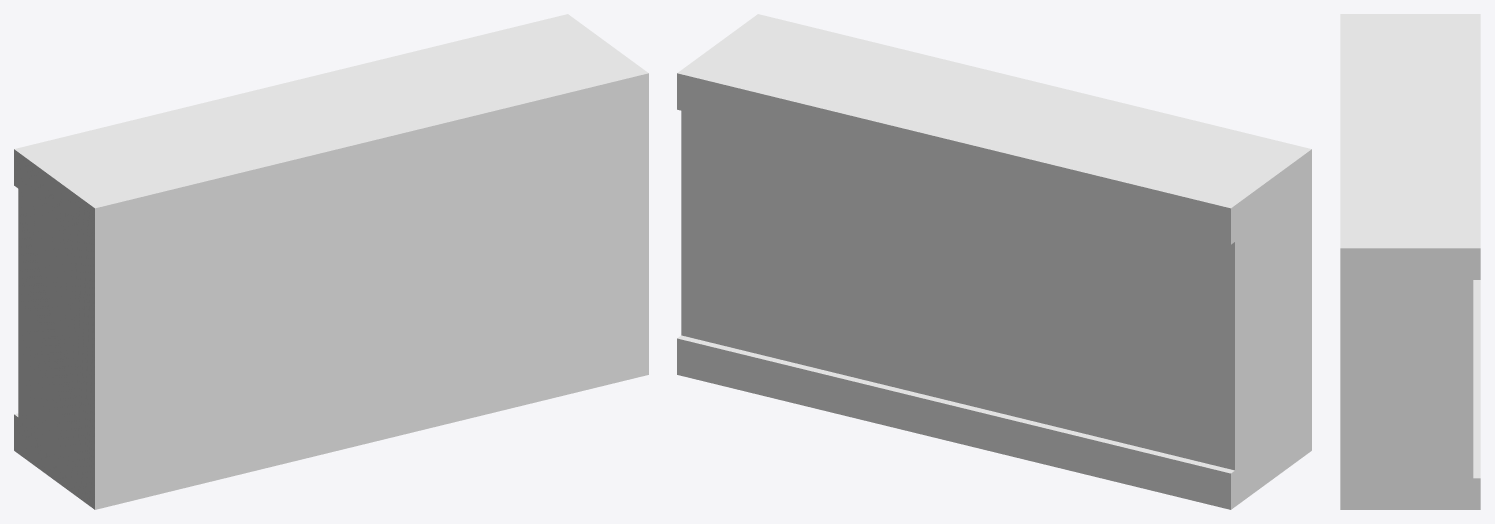
File: venice_road_7.fbx
The picture shows the model from 3 angles, left to right: view 1: azimuth 30°, elevation 25°; view 2: azimuth 150°, elevation 25°; view 3: azimuth 270°, elevation 25°; orthographic projection. The views are drawn at different scales.
Visible parts, largest first — view 1: Cube.295; view 2: Cube.295; view 3: Cube.295.
Boxes of the visible parts, x1,y1,x2,y2 form: Cube.295: (14, 14, 648, 509); Cube.295: (677, 14, 1311, 509); Cube.295: (1340, 14, 1480, 509).
Size of the model in its own units: 1058 by 550 by 268.
